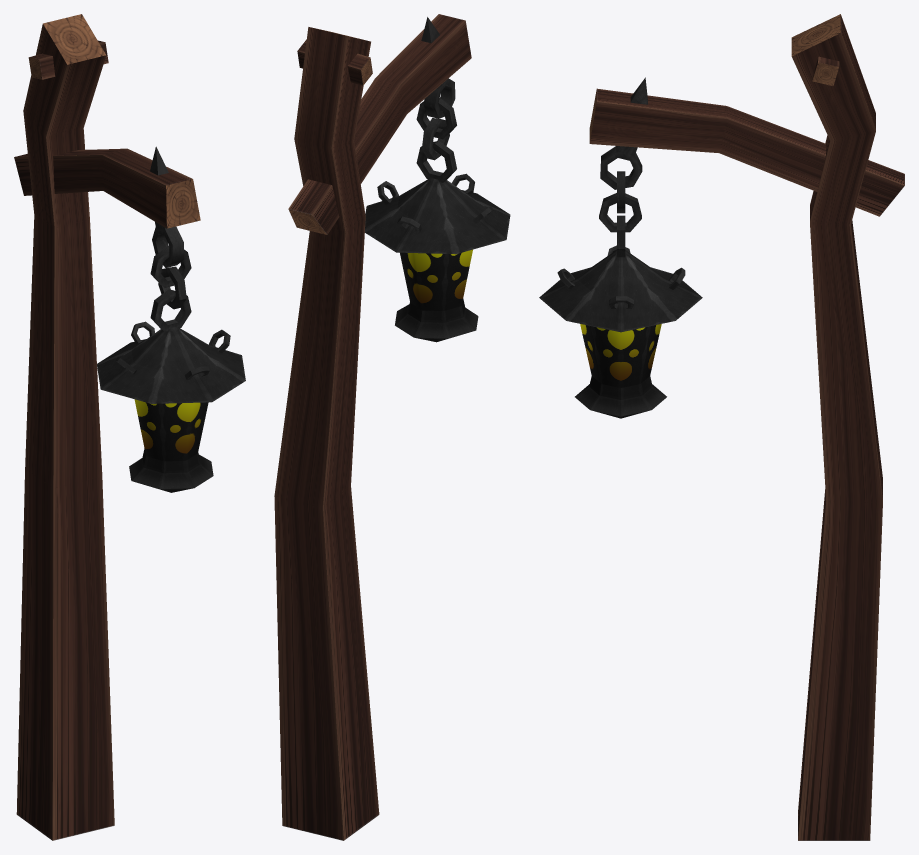
The model's file is Proplight.FBX.
3 renders of one model, left to right at view 1: azimuth 30°, elevation 25°; view 2: azimuth 150°, elevation 25°; view 3: azimuth 270°, elevation 25°, orthographic.
Visible parts, largest first — view 1: PropLight; view 2: PropLight; view 3: PropLight.
Part boxes in pixels (x1,y1,x2,y2): PropLight: (14,14,245,840); PropLight: (274,14,510,840); PropLight: (539,14,904,840).
Size of the model in its own units: 0.1393 by 0.7522 by 0.311.
